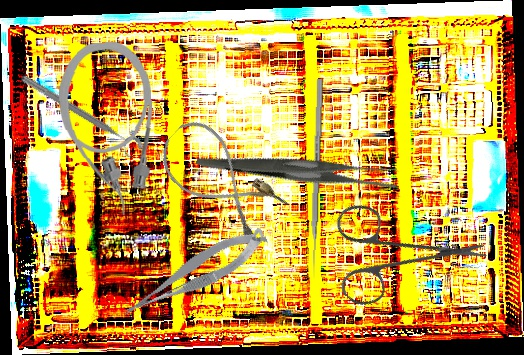Cannula: (149, 111, 291, 250), (57, 40, 156, 218)
Dressing Forceps: (195, 96, 403, 239)
Fixation Ring: (14, 70, 146, 163)
Iris Scissors: (301, 158, 492, 349)
Micro Scissor: (113, 223, 275, 322)
Pusher: (309, 78, 324, 279)
